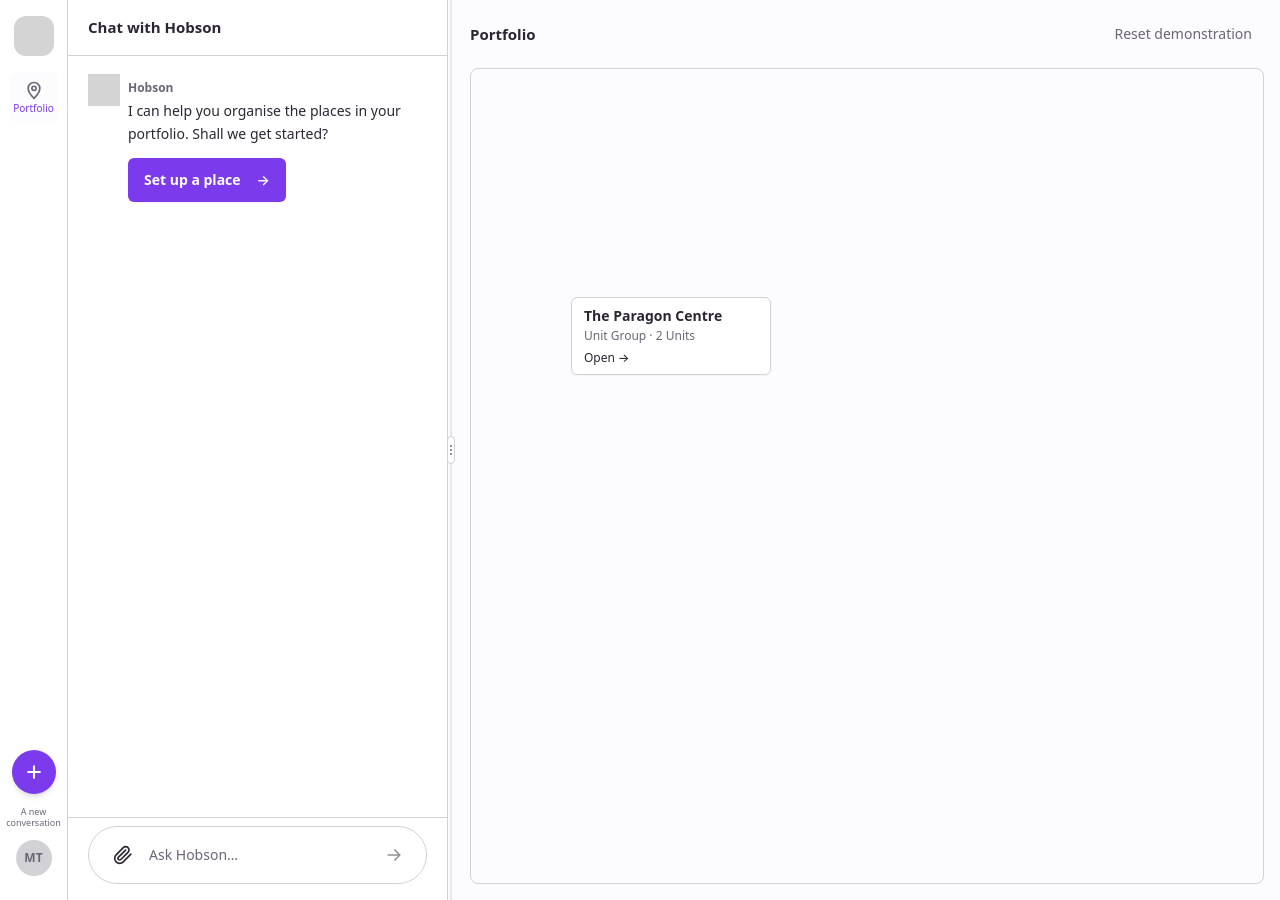
Test: Prototype Unit opening setup › finishes the opening interaction for I'm not sure — help me work it out without creating records
Step 1. Click the button "Set up a place →" → x=207, y=180, box [128, 158, 286, 202]
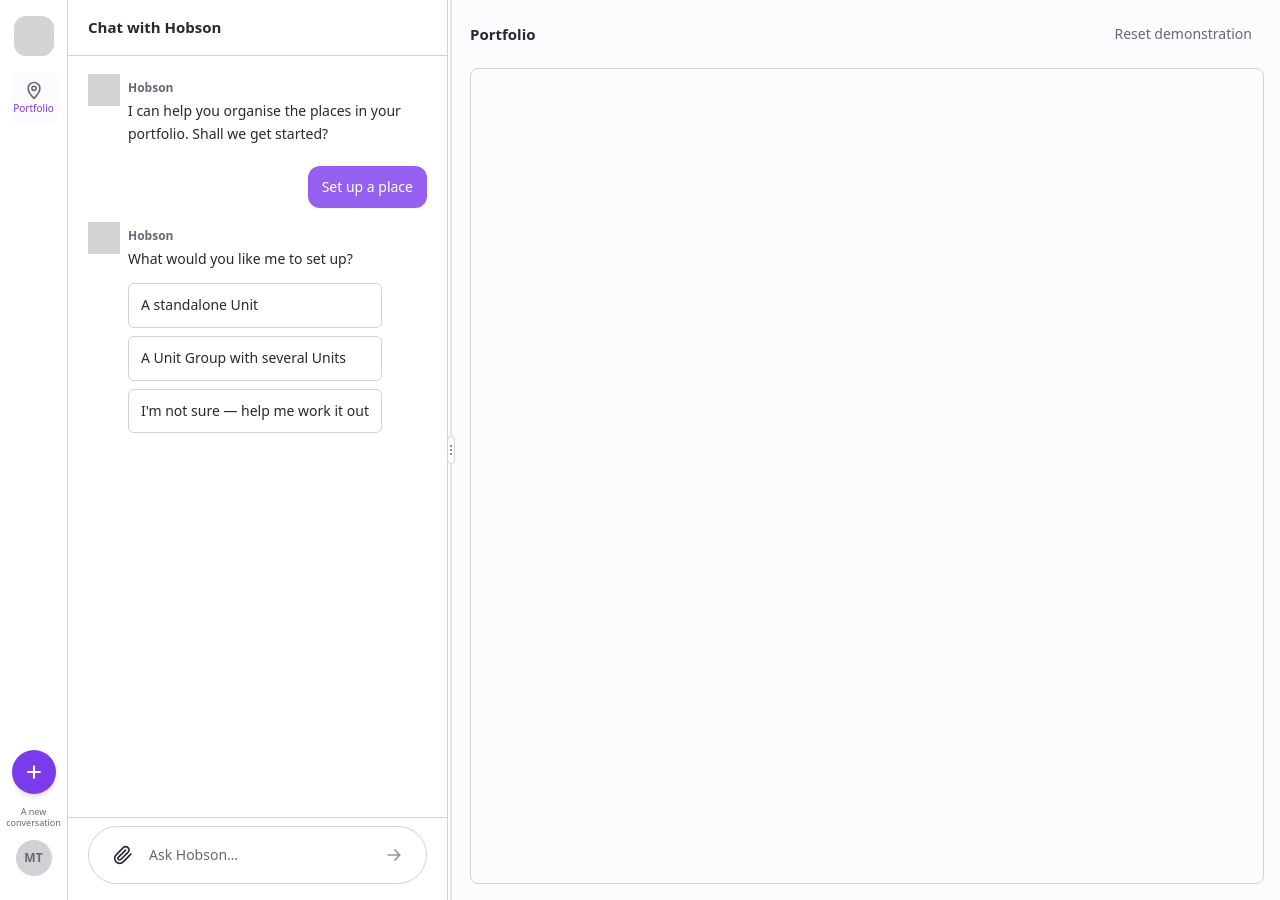
Step 2. Click the button "I'm not sure — help me work it out" → x=255, y=411, box [128, 388, 382, 433]
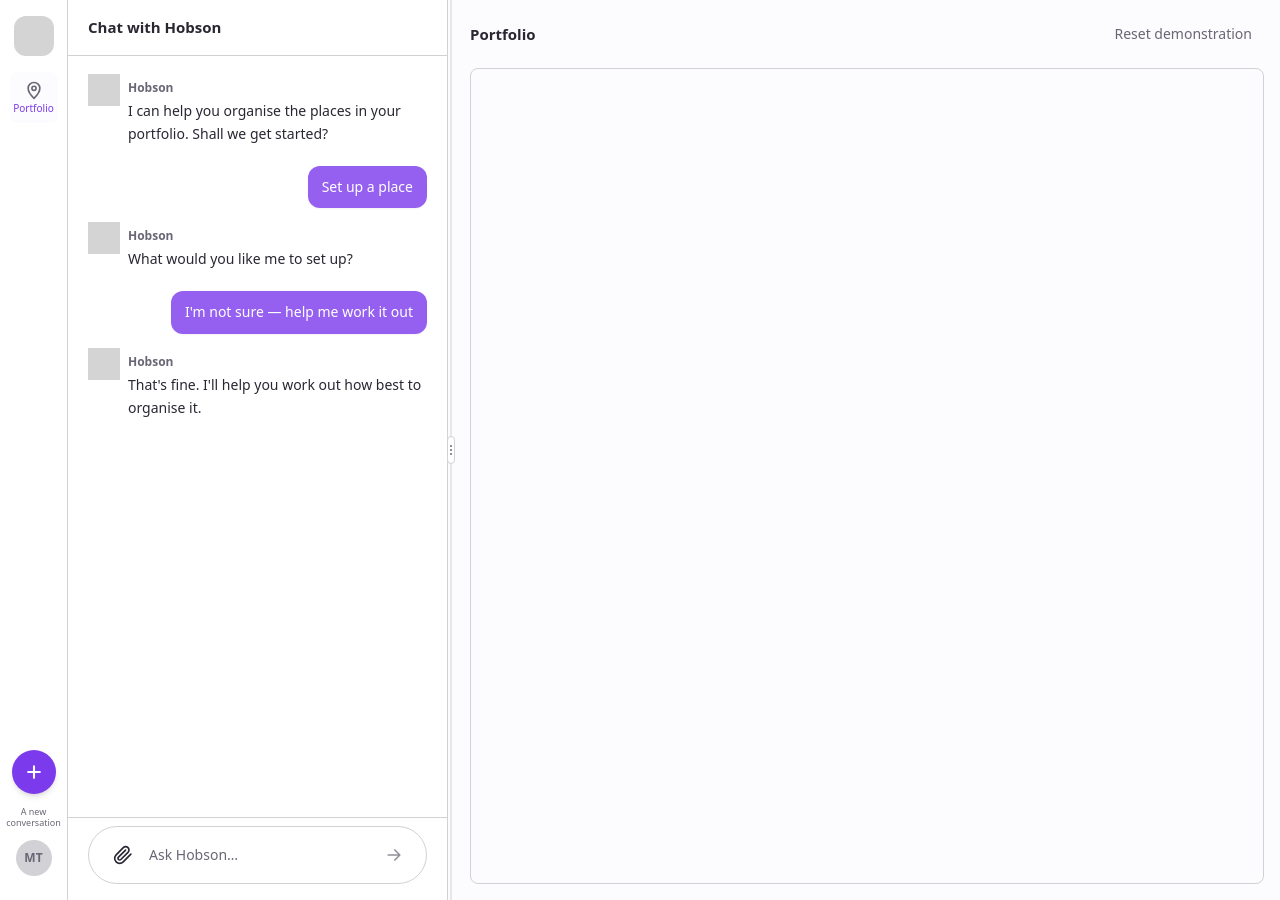
Check: the number of fields is 1, box [149, 845, 370, 865]
Check: no the button "A standalone Unit" are shown
